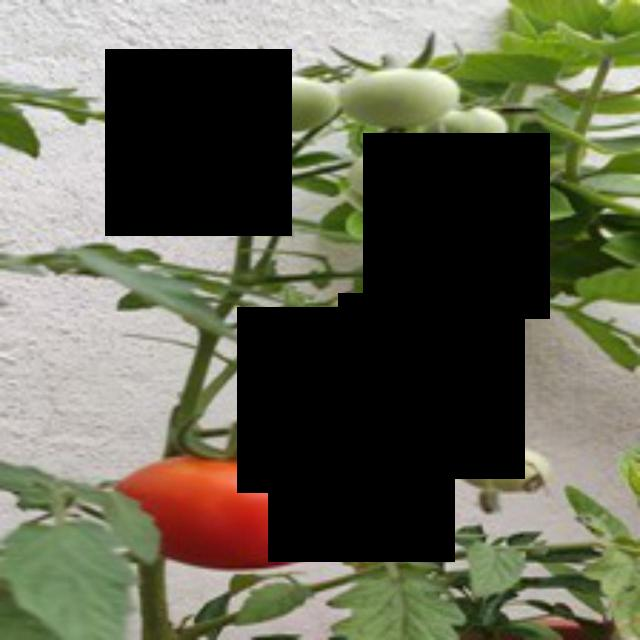tomato: (107, 440, 364, 577)
